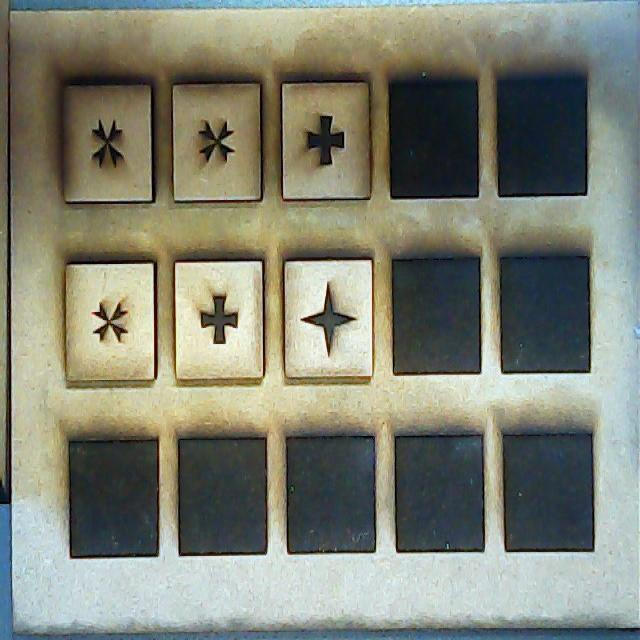maltese: (64, 83, 156, 203), (66, 260, 153, 384), (173, 84, 262, 201)
star: (284, 258, 371, 376)
temple: (282, 75, 374, 202), (175, 265, 264, 385)
